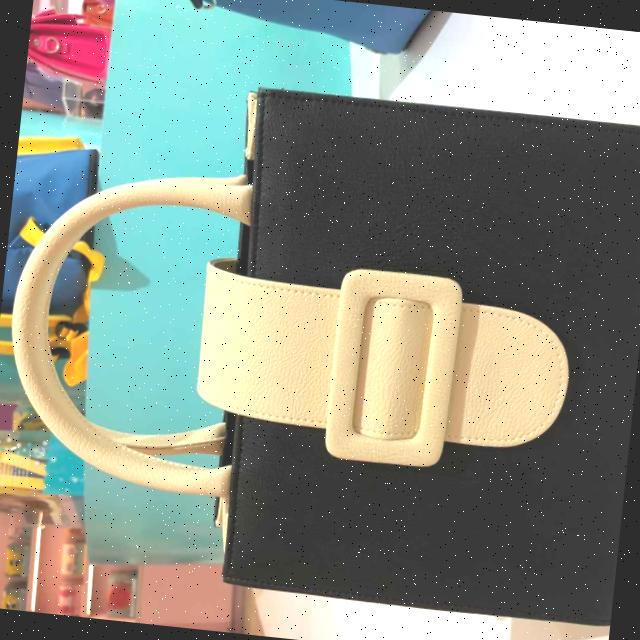Handbag: (130, 72, 640, 631)
